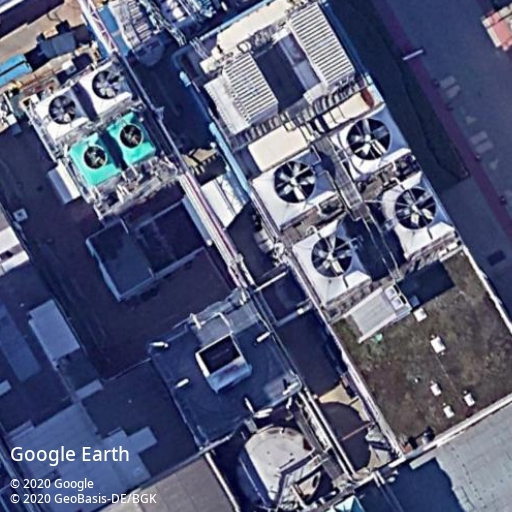Vent: (347, 117, 392, 161), (393, 186, 437, 231), (273, 160, 317, 204), (310, 234, 353, 278), (91, 70, 122, 100), (48, 95, 77, 125), (119, 124, 143, 149), (83, 145, 107, 170)
